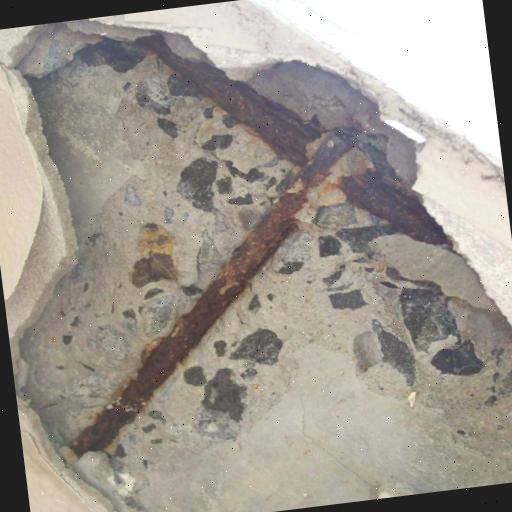spalling: (9, 21, 512, 512)
